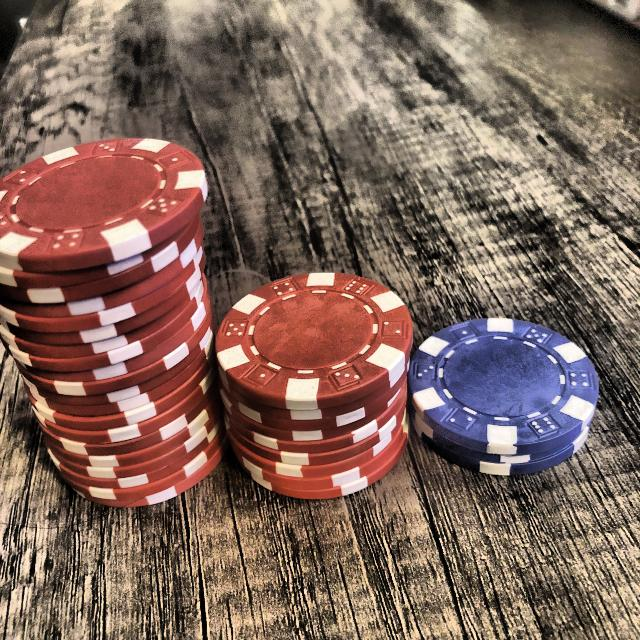Chip: (0, 138, 229, 509), (215, 272, 417, 498), (407, 316, 600, 478)
